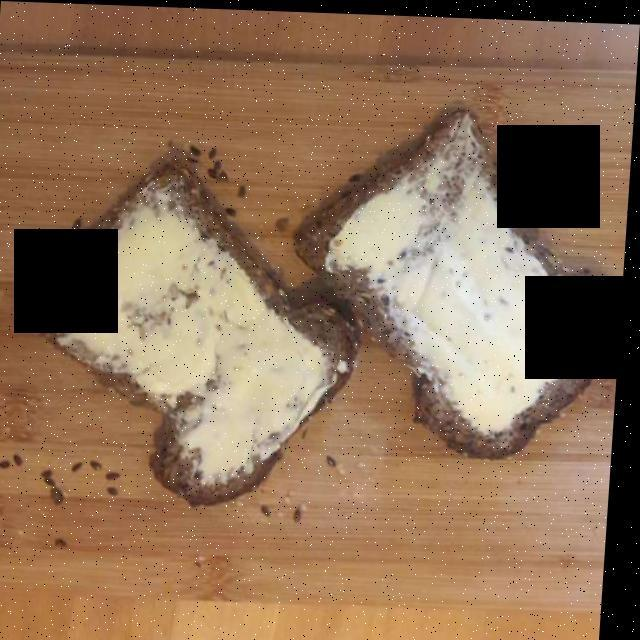bread: (31, 112, 620, 502)
butter: (69, 131, 580, 477)
